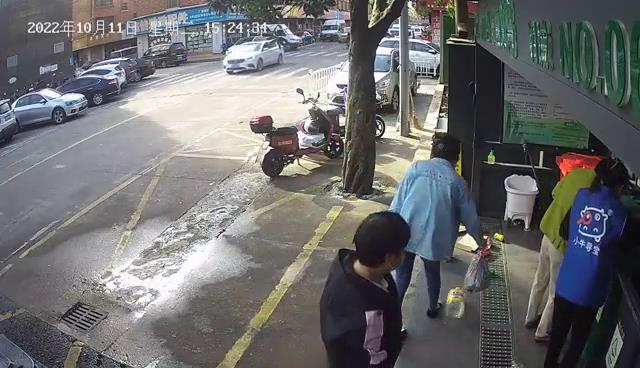garbage-bag: (464, 246, 491, 293)
lvzhipin: (481, 245, 491, 258), (493, 232, 505, 242)
person: (525, 157, 616, 345), (318, 211, 411, 368)
suliaozhipin: (445, 285, 466, 320)
worker: (387, 130, 487, 339), (543, 158, 628, 368)
